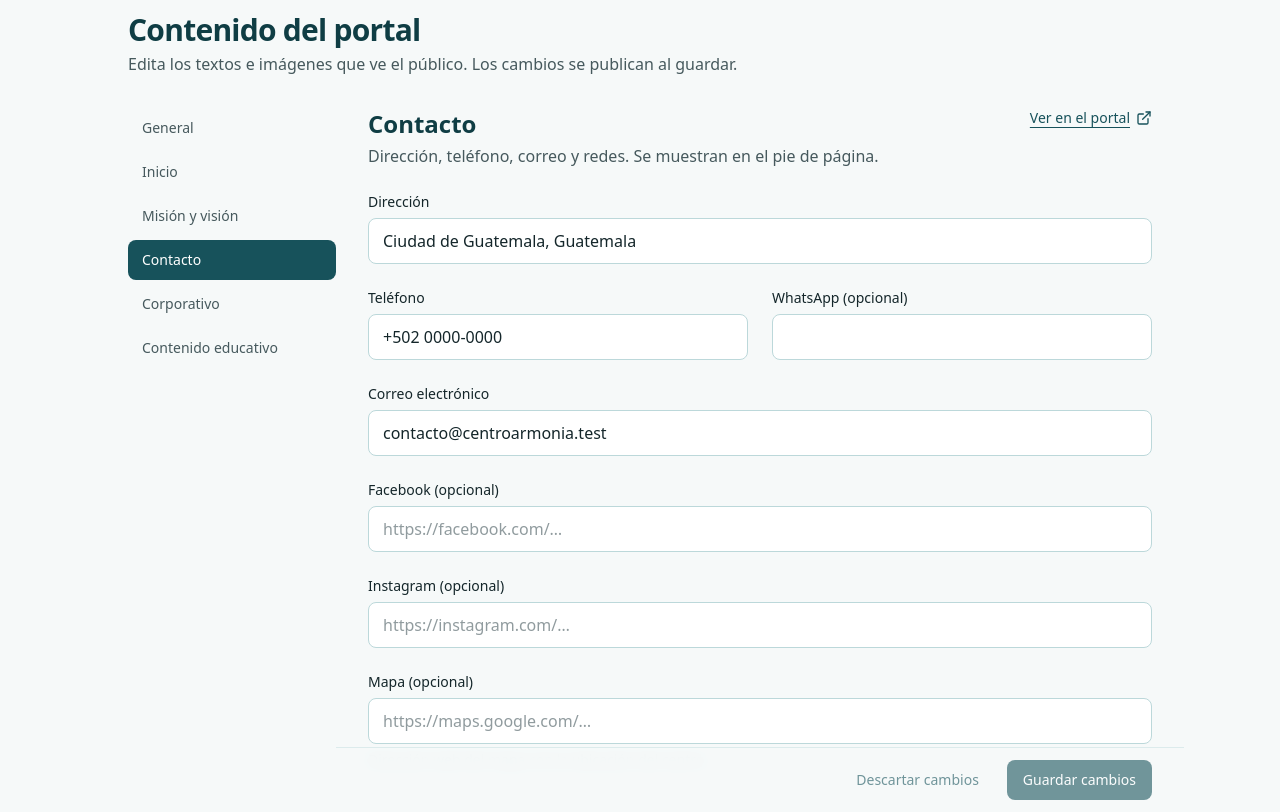
Test: Editor de contenido › contacto: rechaza un correo inválido
The image size is (1280, 812).
Replace the text in the field labelled "Correo electrónico" with "no-es-correo". click: (760, 433)
box: [368, 410, 1152, 456]
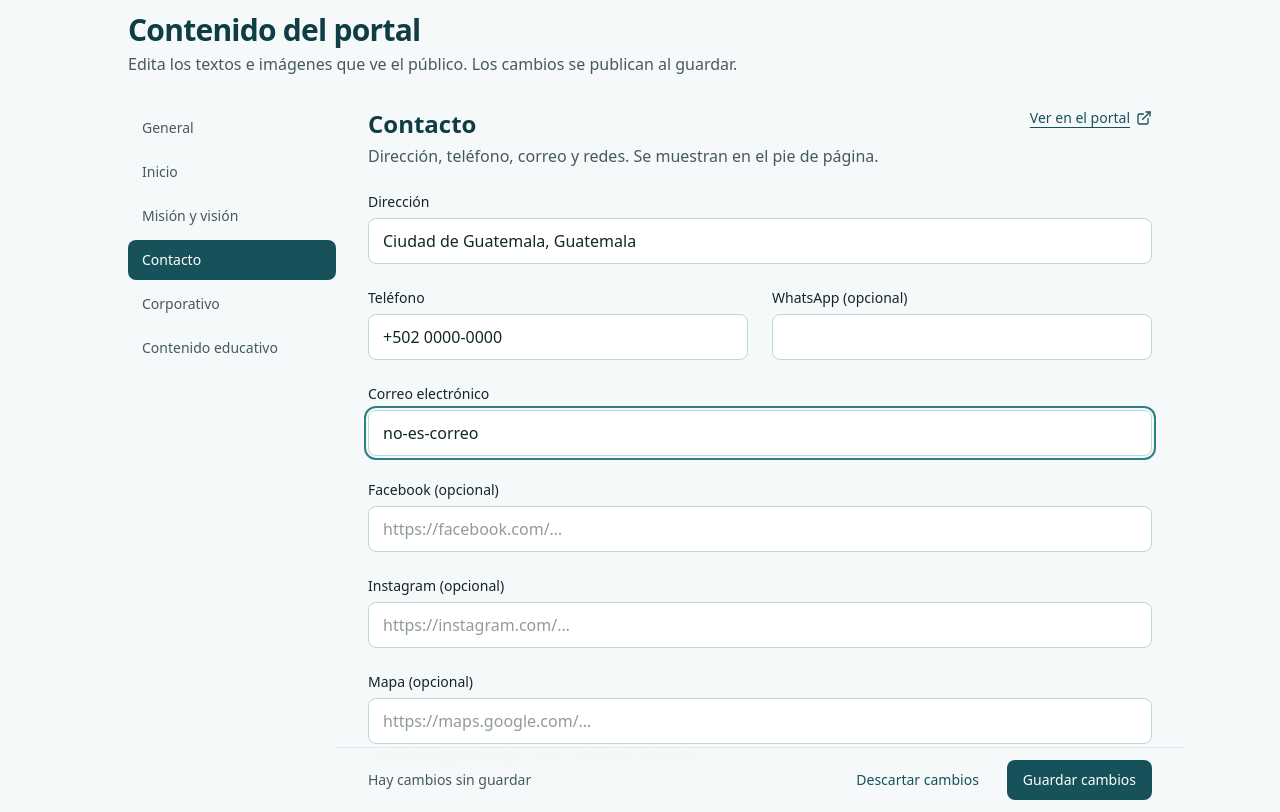
Click the button "Guardar cambios". click: (1079, 780)
box: [1007, 760, 1152, 800]
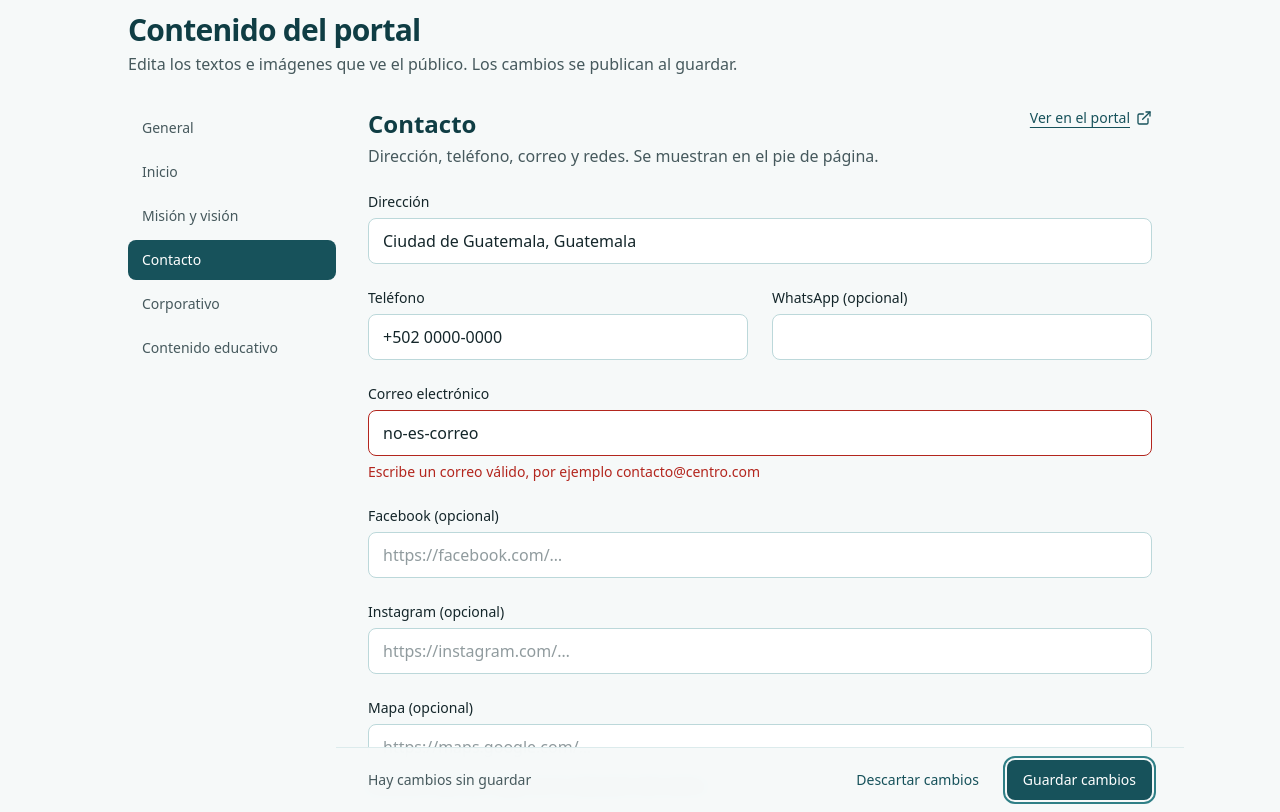
Check: the text "Escribe un correo válido, por ejemplo contacto@centro.com" is shown, box [368, 462, 760, 481]
